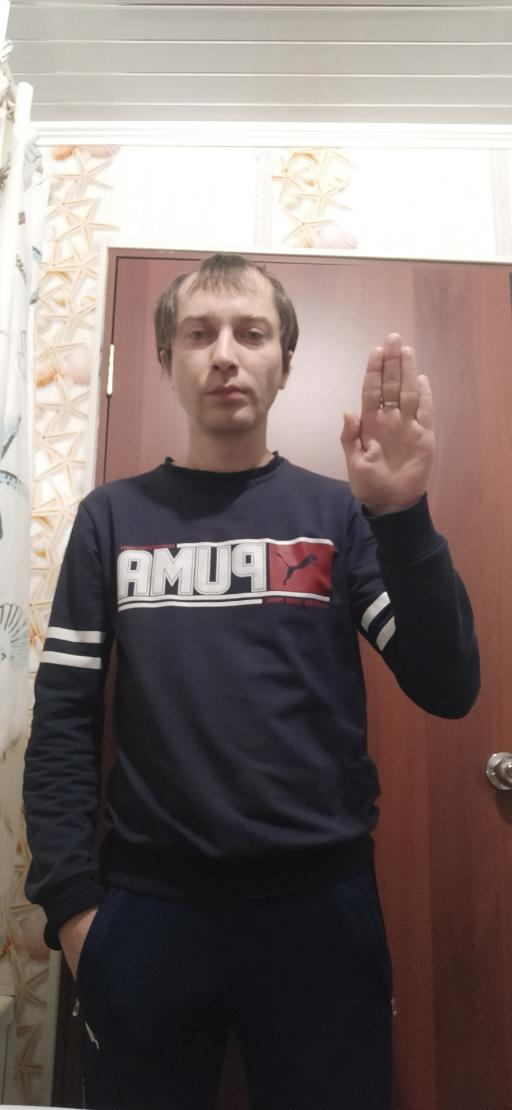stop: (337, 329, 438, 512)
